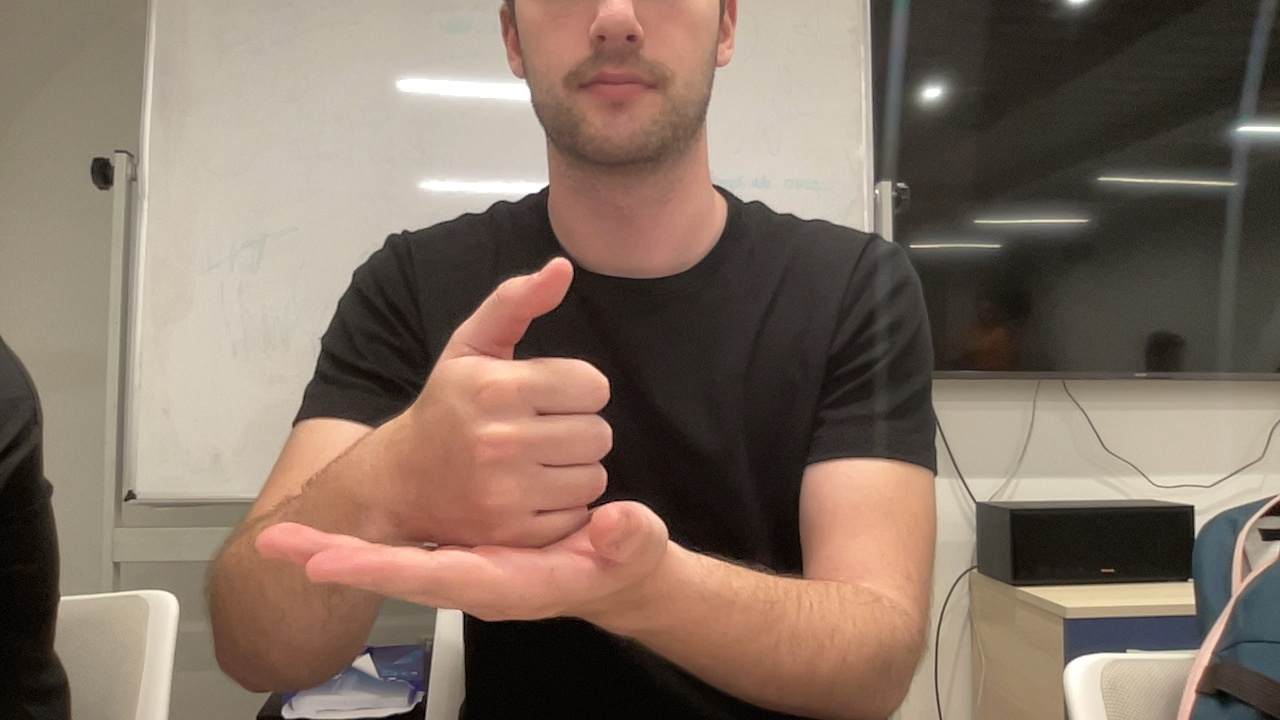Help: (248, 250, 670, 628)
